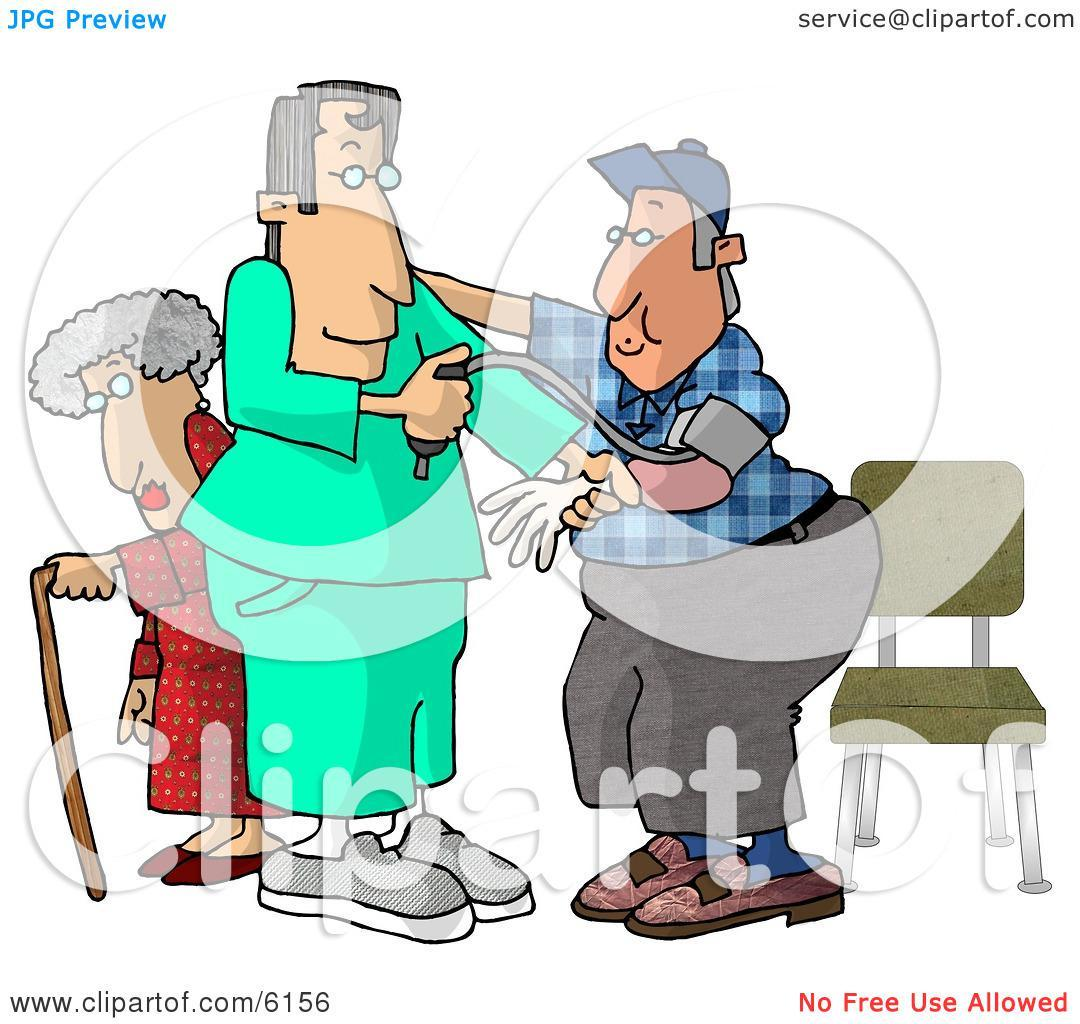chair: (831, 454, 1049, 892)
person: (402, 134, 906, 941), (184, 69, 645, 944), (21, 288, 303, 888)
